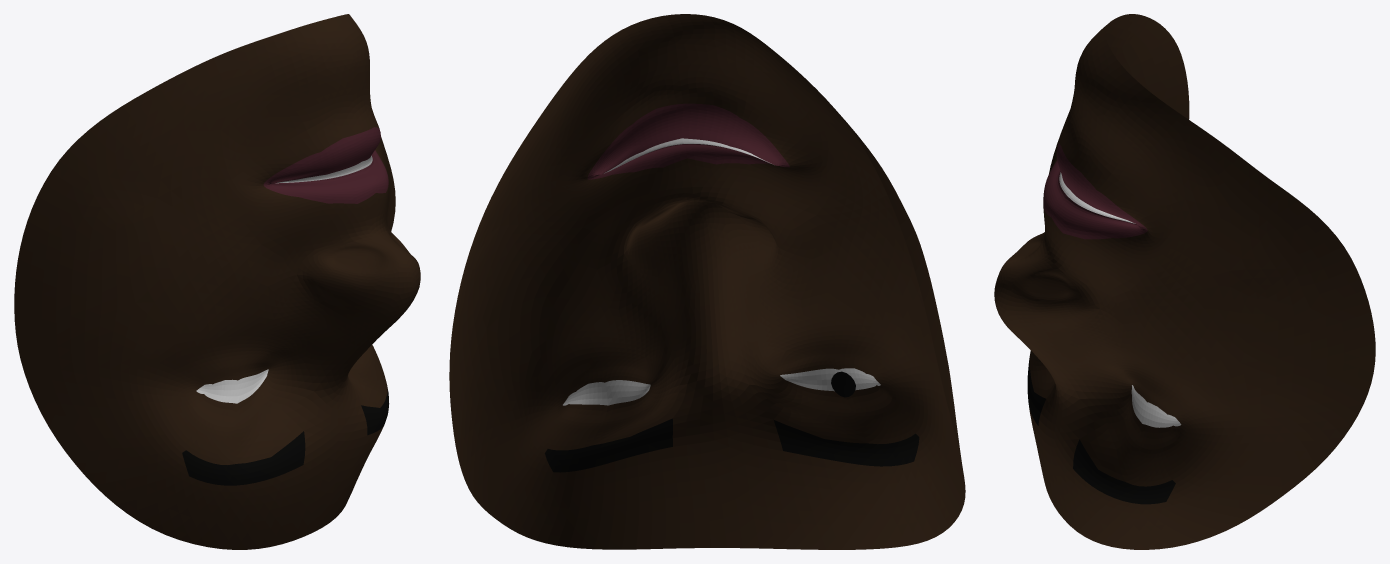
Rendered from VID-20250515-WA0007_f_00743.obj.
3 renders of one model, left to right at view 1: azimuth 30°, elevation 25°; view 2: azimuth 150°, elevation 25°; view 3: azimuth 270°, elevation 25°, orthographic. The views are drawn at different scales.
Parts seen in each view (by area): view 1: face_mesh_subdivided; view 2: face_mesh_subdivided; view 3: face_mesh_subdivided.
Boxes of the visible parts, x1,y1,x2,y2 form: face_mesh_subdivided: [14, 14, 420, 549]; face_mesh_subdivided: [449, 14, 965, 549]; face_mesh_subdivided: [994, 14, 1375, 549].
Bounding box in the file's own units: 0.5689 × 0.6898 × 0.4884.
